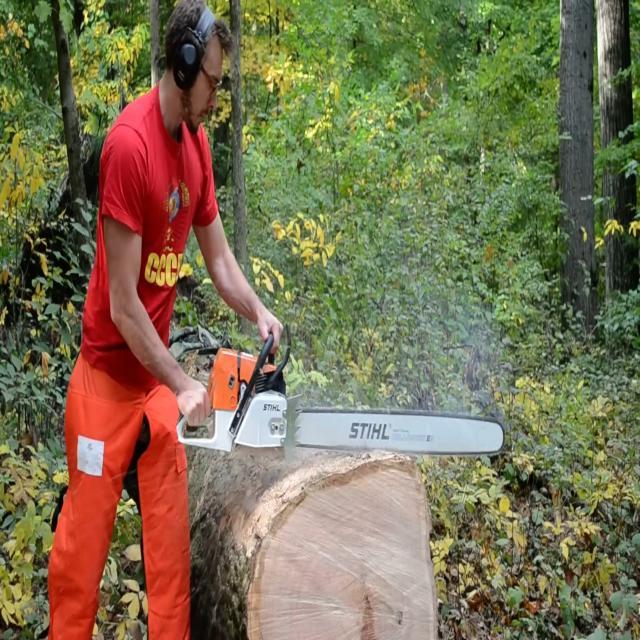Chainsaw: (165, 311, 512, 486)
